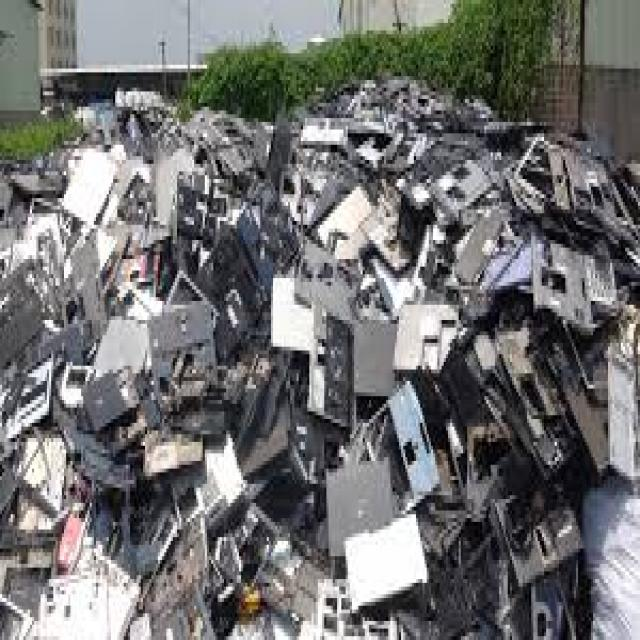hazard: (9, 81, 640, 617)
